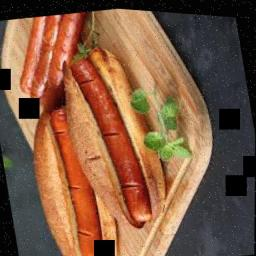hotdog: (50, 29, 180, 239), (19, 95, 125, 256)
